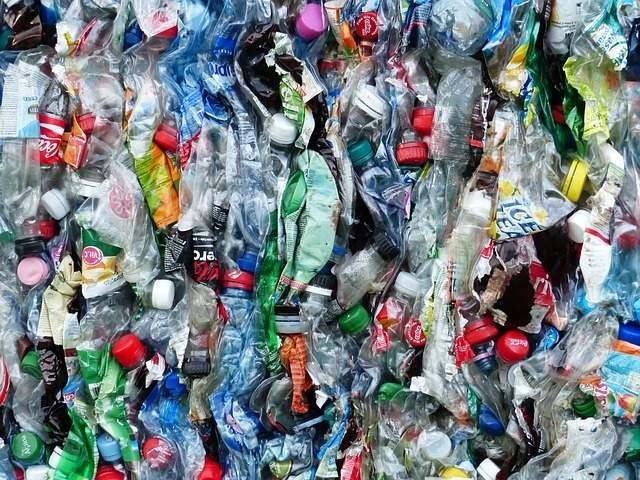plastic: (463, 1, 594, 251), (241, 145, 350, 350), (205, 263, 283, 480), (71, 152, 176, 289), (1, 41, 61, 258), (311, 228, 407, 314), (283, 1, 345, 60), (5, 424, 68, 473), (141, 267, 186, 321), (103, 327, 152, 375), (334, 301, 388, 344), (12, 249, 56, 301), (344, 132, 380, 179), (493, 324, 533, 361), (391, 135, 432, 171), (408, 100, 447, 135)
